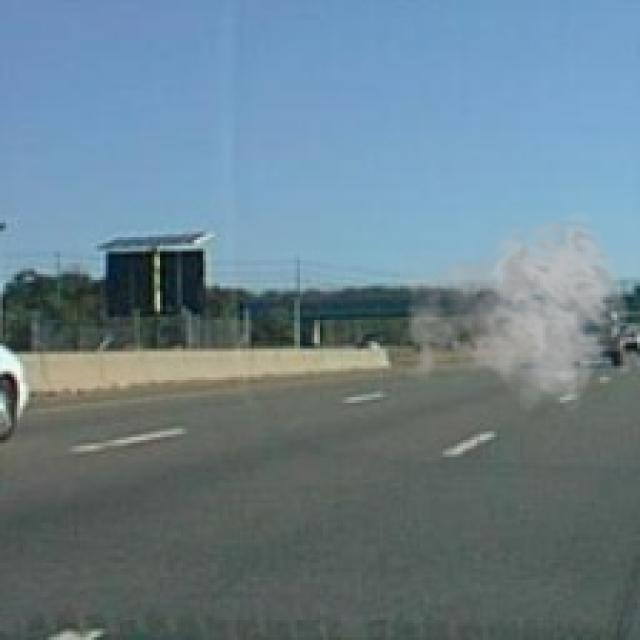smoke: (388, 209, 632, 417)
